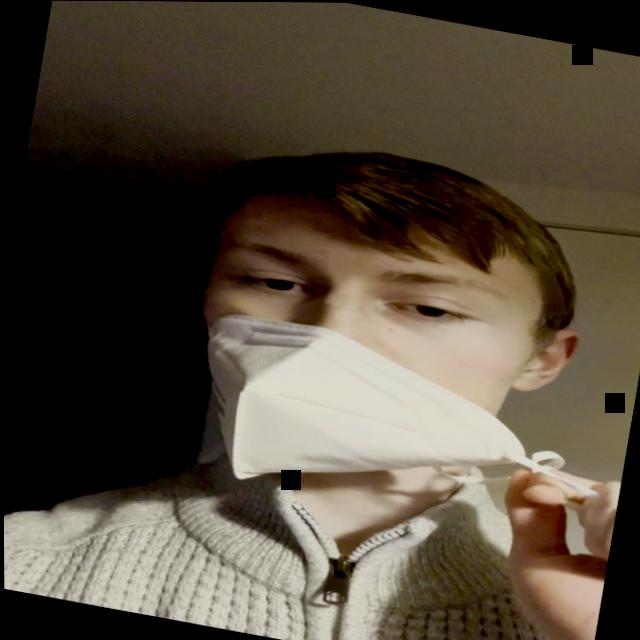NO-Mask: (167, 167, 555, 527)
